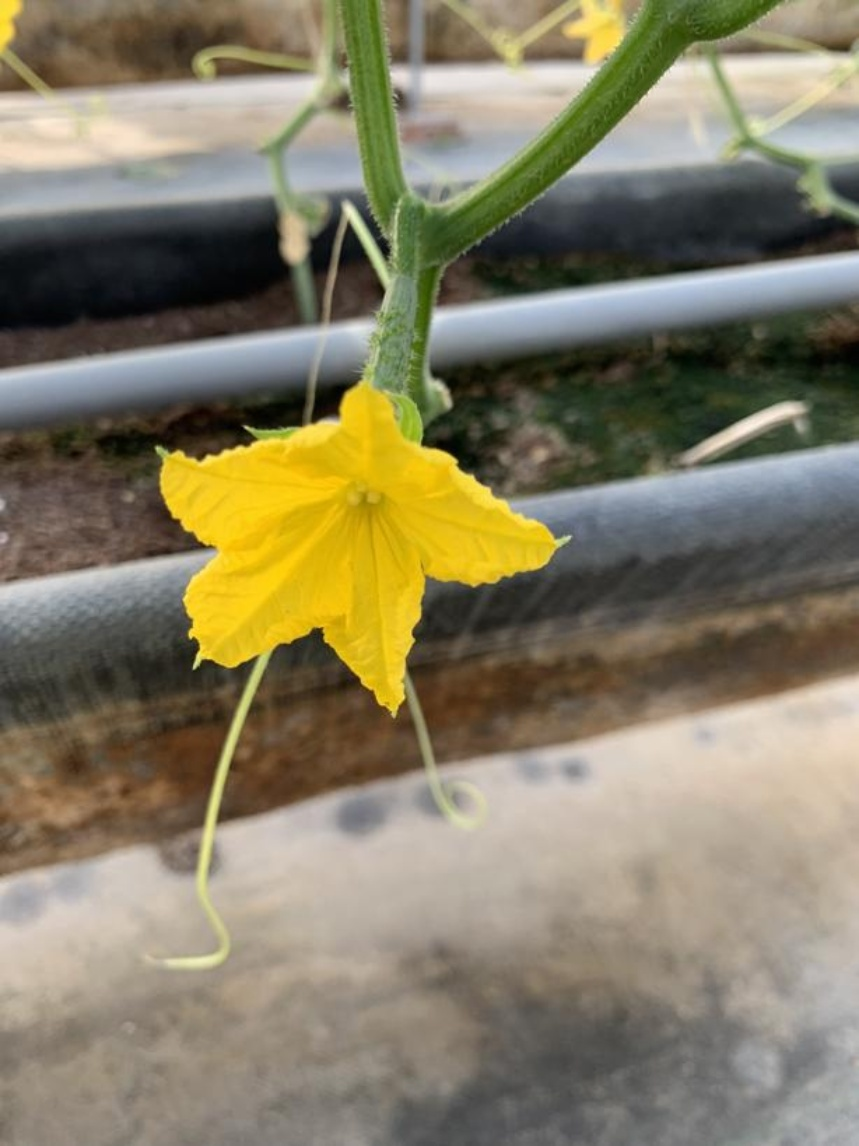mature: (135, 243, 562, 729)
